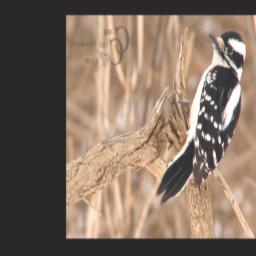Woodpecker: (154, 30, 247, 210)
